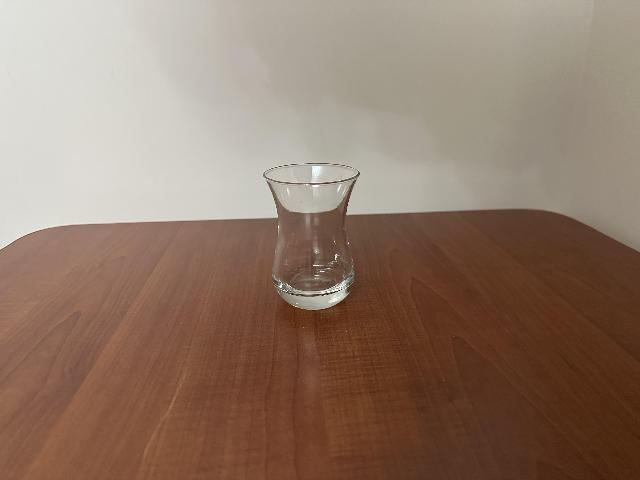Cam: (262, 159, 363, 308)
